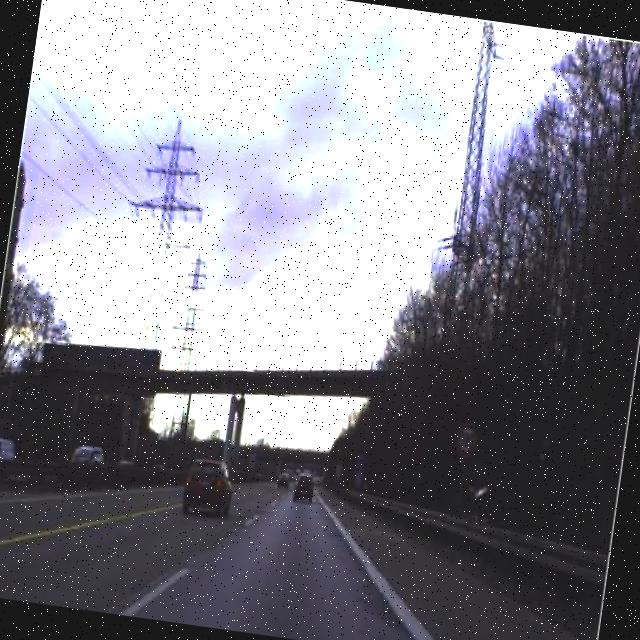Ograniczenie predkosci do 100: (451, 418, 483, 466)
